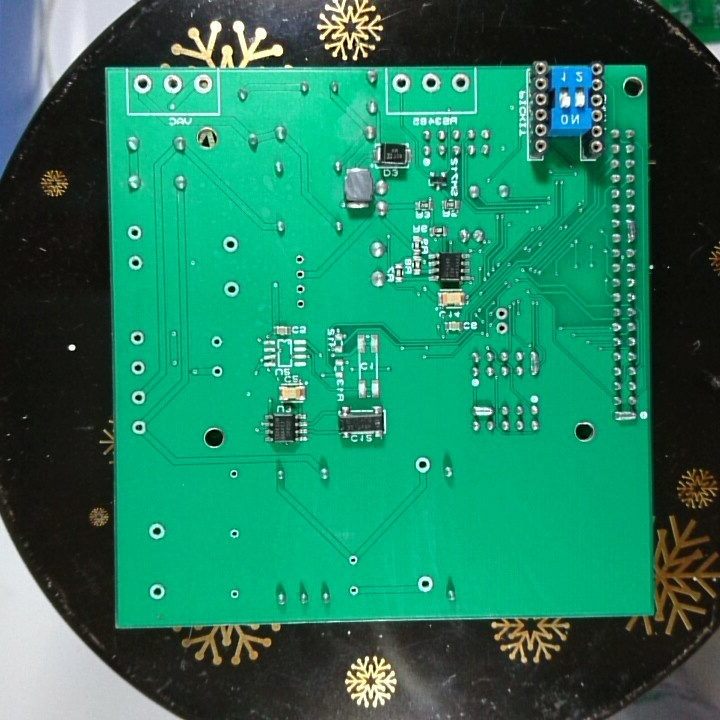F: (131, 72, 156, 98), (160, 72, 185, 98), (191, 71, 215, 98), (419, 71, 442, 95), (449, 71, 472, 95), (219, 232, 242, 255), (145, 580, 169, 602), (122, 222, 145, 243), (391, 72, 412, 95), (414, 573, 435, 595), (220, 278, 242, 299), (145, 521, 168, 541), (125, 253, 146, 274), (126, 327, 148, 347), (411, 455, 432, 475), (128, 418, 149, 438), (127, 358, 148, 378), (128, 388, 148, 407), (493, 320, 512, 338), (208, 332, 225, 351), (208, 363, 226, 380), (226, 526, 243, 543), (494, 305, 511, 322), (345, 582, 361, 599), (345, 552, 361, 569), (225, 466, 242, 482), (293, 266, 309, 283), (292, 250, 308, 267), (227, 586, 242, 603), (294, 296, 309, 312), (293, 281, 308, 297)
P: (526, 347, 543, 379), (611, 407, 639, 425), (622, 216, 638, 245), (471, 402, 496, 418)
